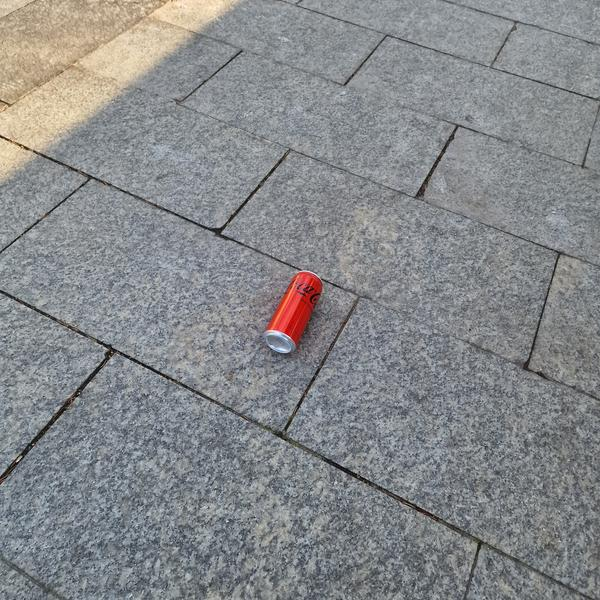can: (259, 263, 328, 360)
